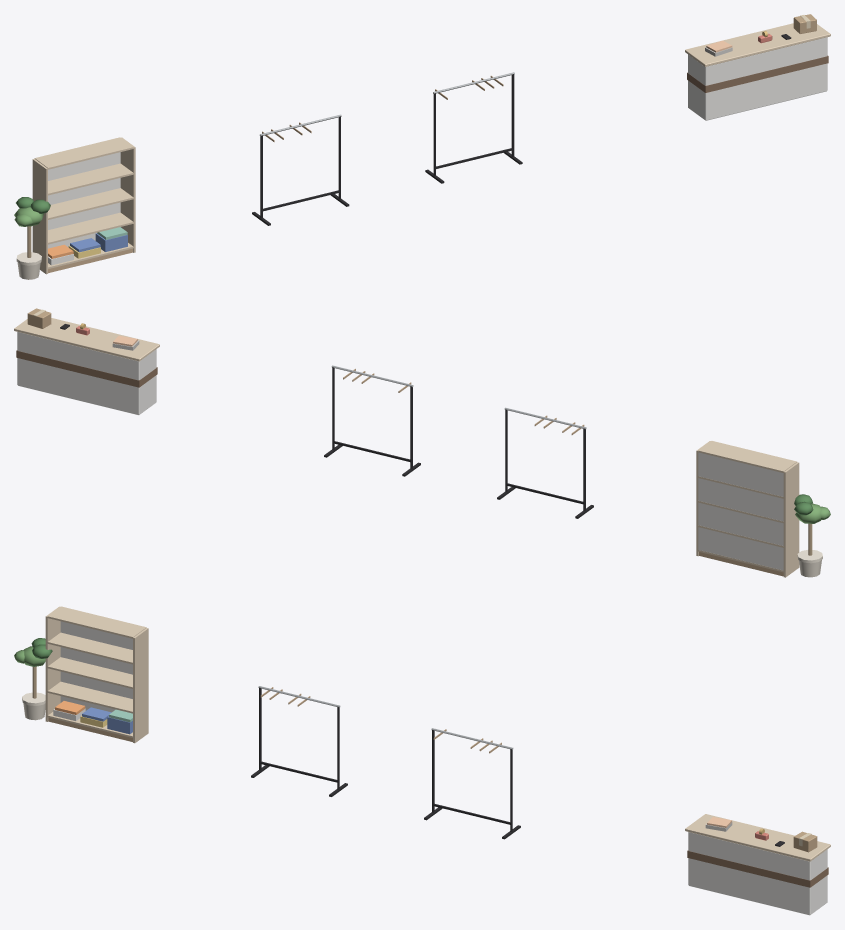
The model's file is einrichtung_laden_buehne.glb.
The picture shows the model from 3 angles, top to bottom: view 1: azimuth 30°, elevation 25°; view 2: azimuth 150°, elevation 25°; view 3: azimuth 330°, elevation 25°; orthographic projection.
Parts seen in each view (by area): view 1: einrichtung_laden_buehne; view 2: einrichtung_laden_buehne; view 3: einrichtung_laden_buehne.
Boxes of the visible parts, x1,y1,x2,y2 form: einrichtung_laden_buehne: (14, 14, 830, 279); einrichtung_laden_buehne: (14, 308, 830, 577); einrichtung_laden_buehne: (14, 606, 830, 915).
Bounding box in the file's own units: 14.43 × 1.81 × 0.72.
